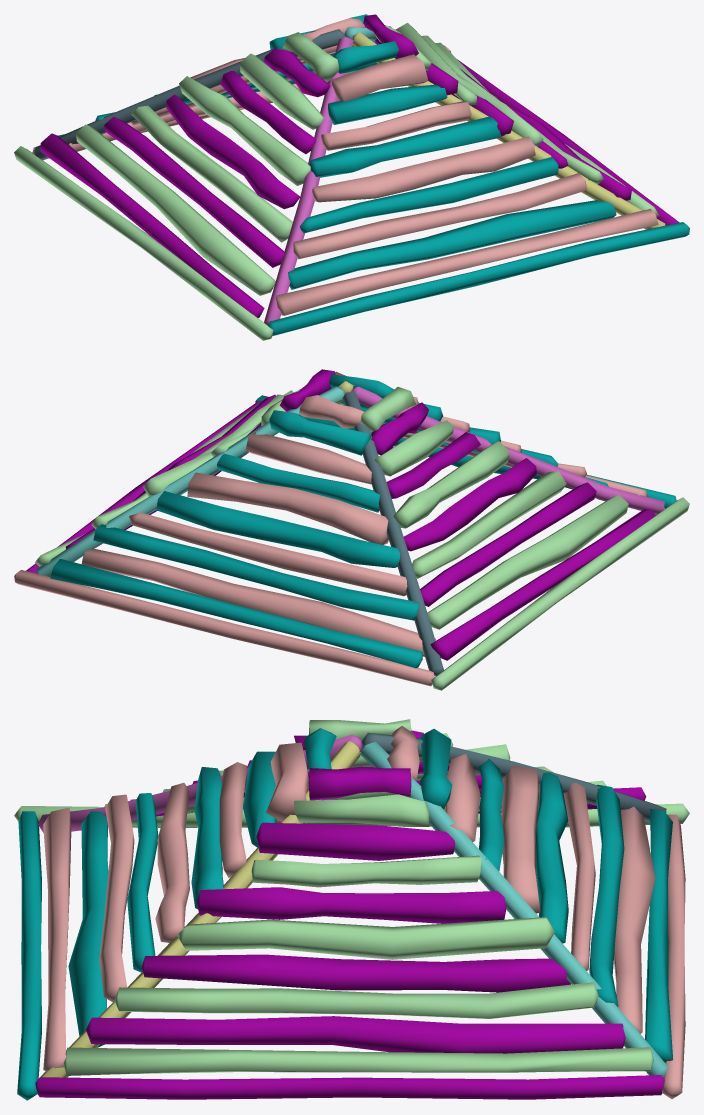
Rendered from PBW_W1_RoofC.glb.
The picture shows the model from 3 angles, top to bottom: view 1: azimuth 30°, elevation 25°; view 2: azimuth 150°, elevation 25°; view 3: azimuth 270°, elevation 25°; orthographic projection. The views are drawn at different scales.
Visible parts, largest first — view 1: PBW_W1_RoofC; view 2: PBW_W1_RoofC; view 3: PBW_W1_RoofC.
Boxes of the visible parts, bbox=[...] form: PBW_W1_RoofC: bbox=[14, 14, 689, 340]; PBW_W1_RoofC: bbox=[14, 369, 689, 690]; PBW_W1_RoofC: bbox=[14, 719, 689, 1100].
Size of the model in its own units: 5.12 by 1.89 by 5.14.
